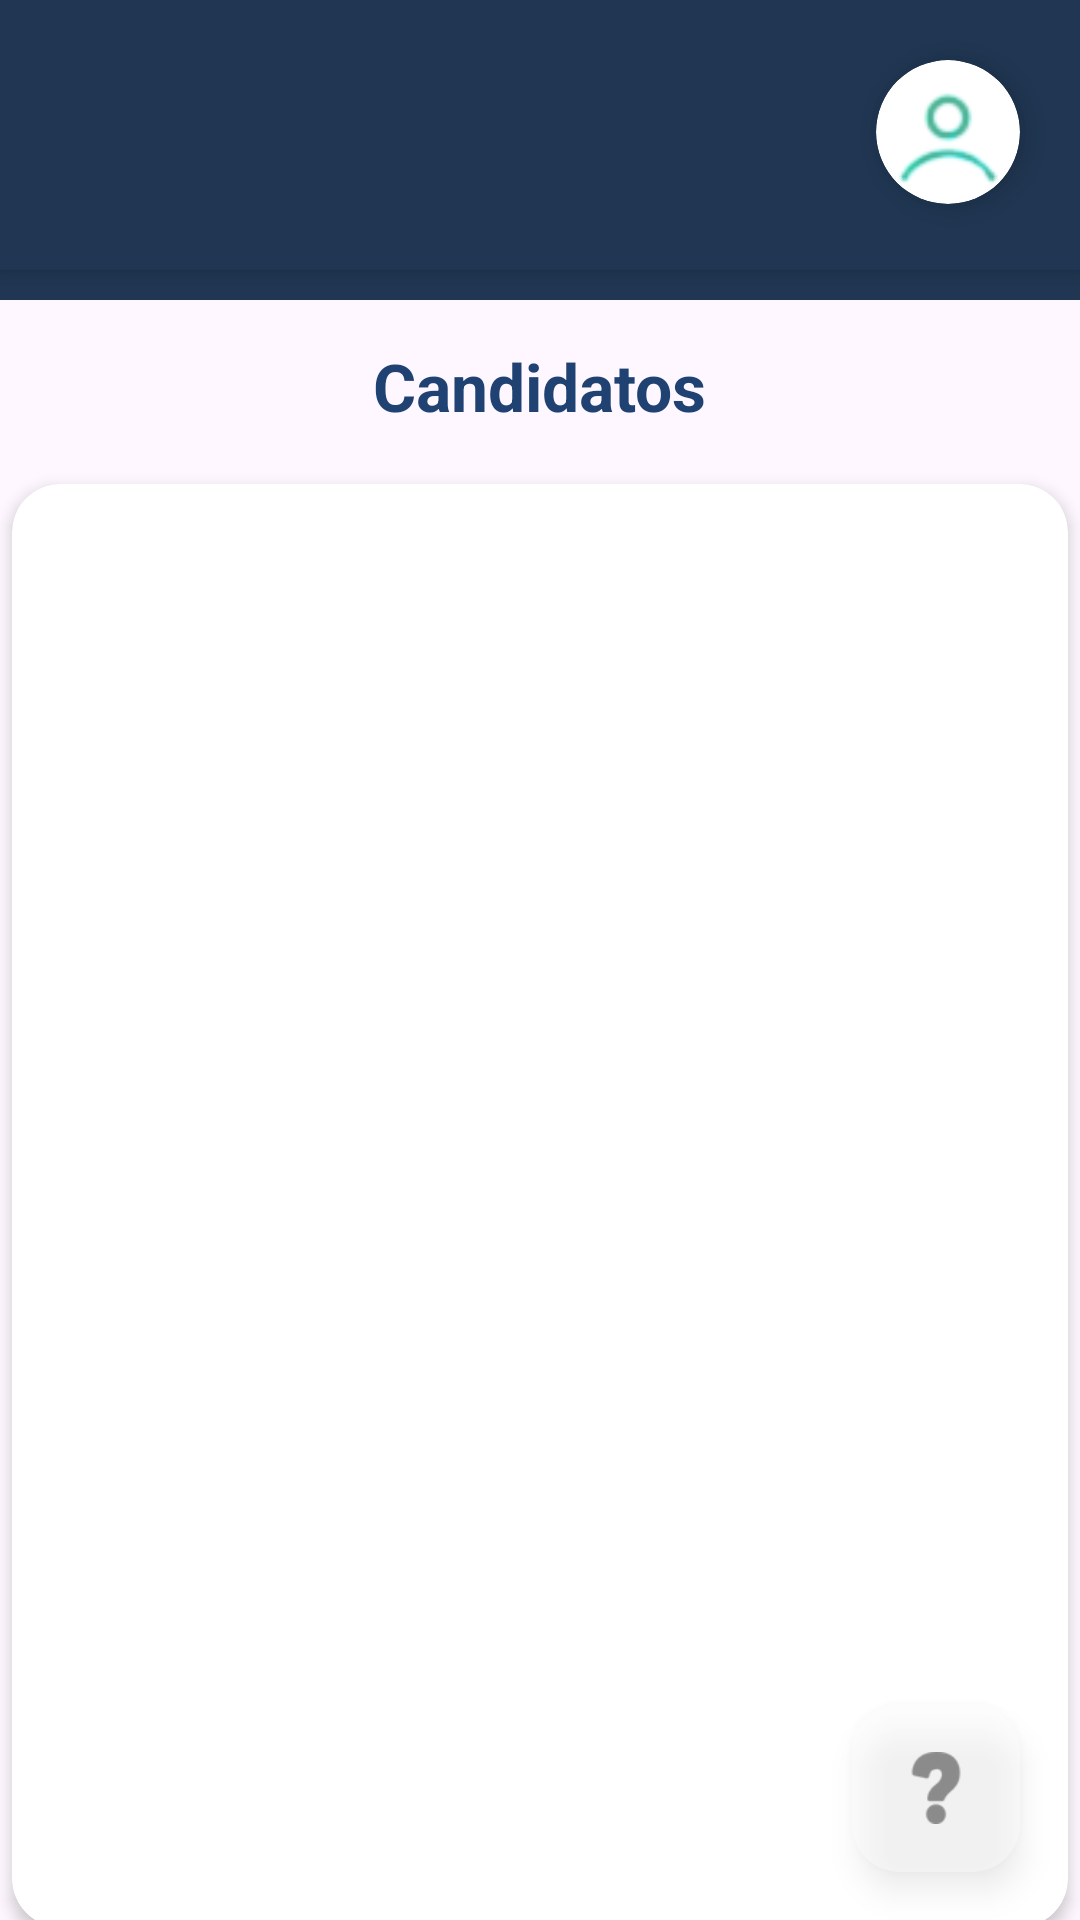

Named icons in this screenshot (1080 × 1920) and their bounding boxes, (x1, y1, x2, y2):
Foto de Perfil: (876, 60, 1020, 204)
interrogacao: (911, 1752, 961, 1824)
